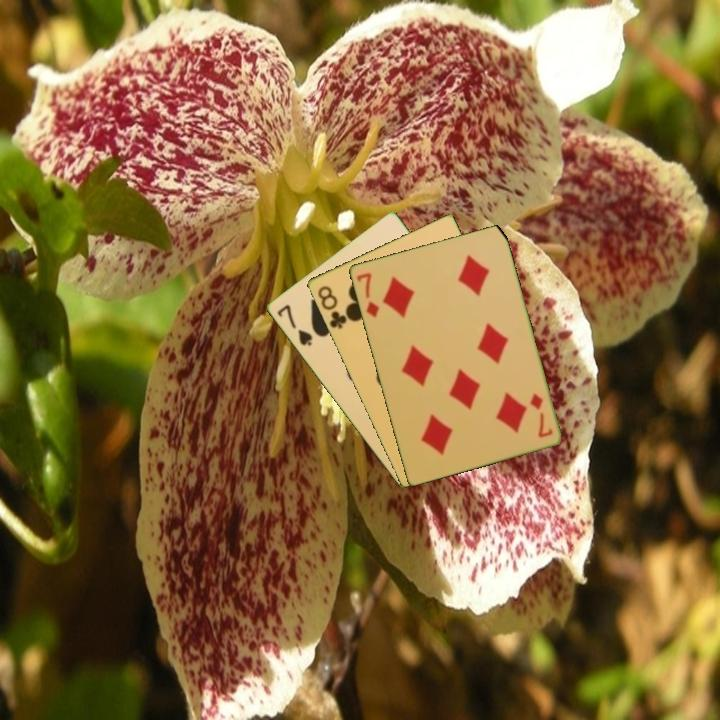7d: (352, 269, 382, 320), (526, 389, 555, 440)
7s: (273, 301, 315, 349)
8c: (314, 282, 352, 332)
